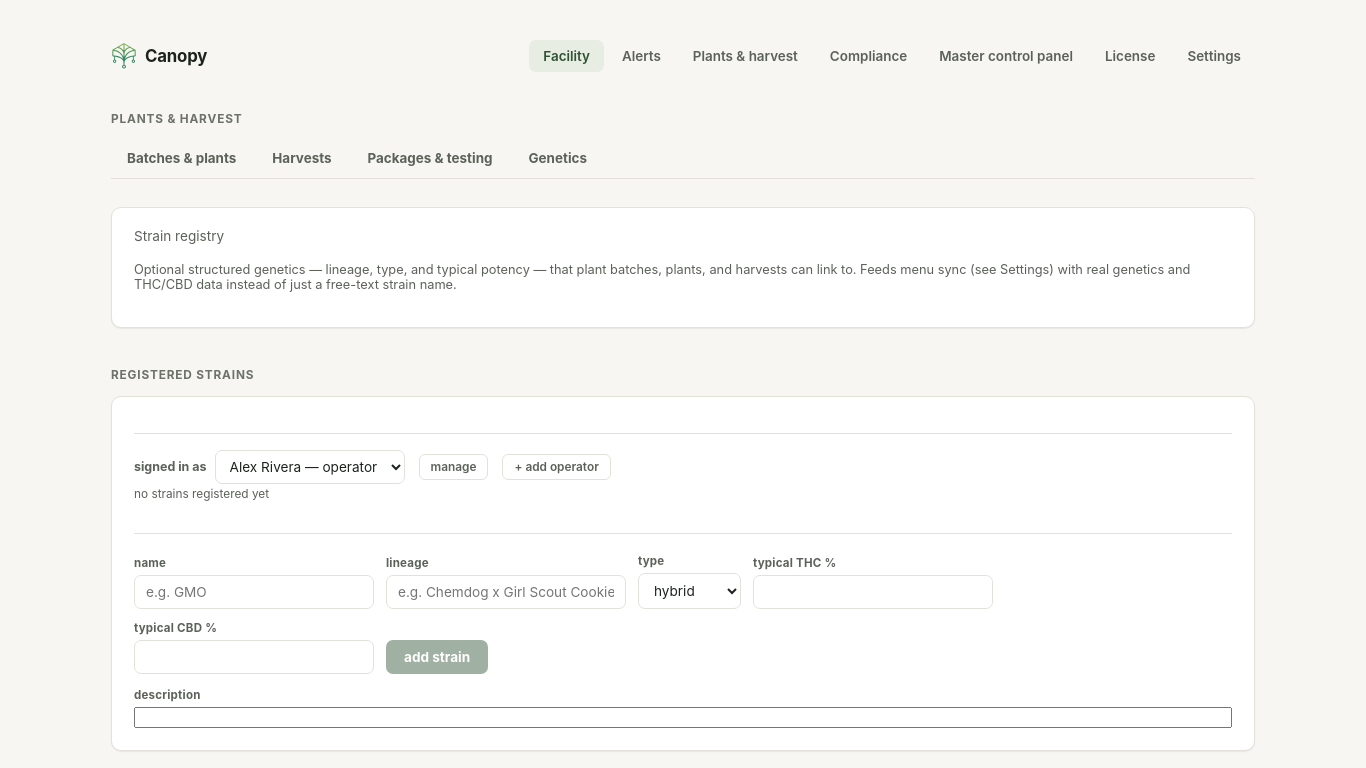
Genetics › creates a new strain and refreshes the list
Expected: the text "no strains registered yet" is shown, [134,487,269,501]
Type "Jelly Breath" into the field with placeholder "e.g. GMO" at coordinates (254, 592), box [134,575,374,609]
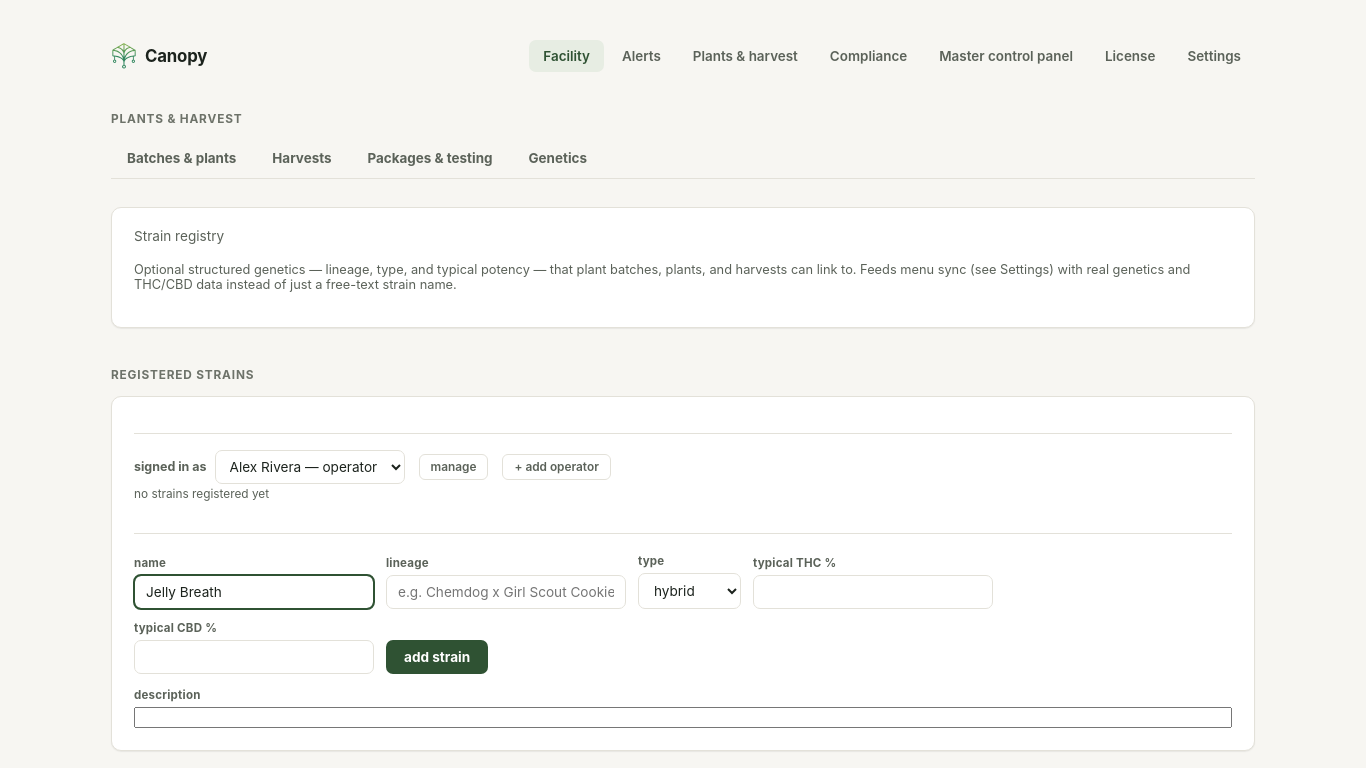
Click the button "add strain" at coordinates (437, 657), box [386,640,488,674]
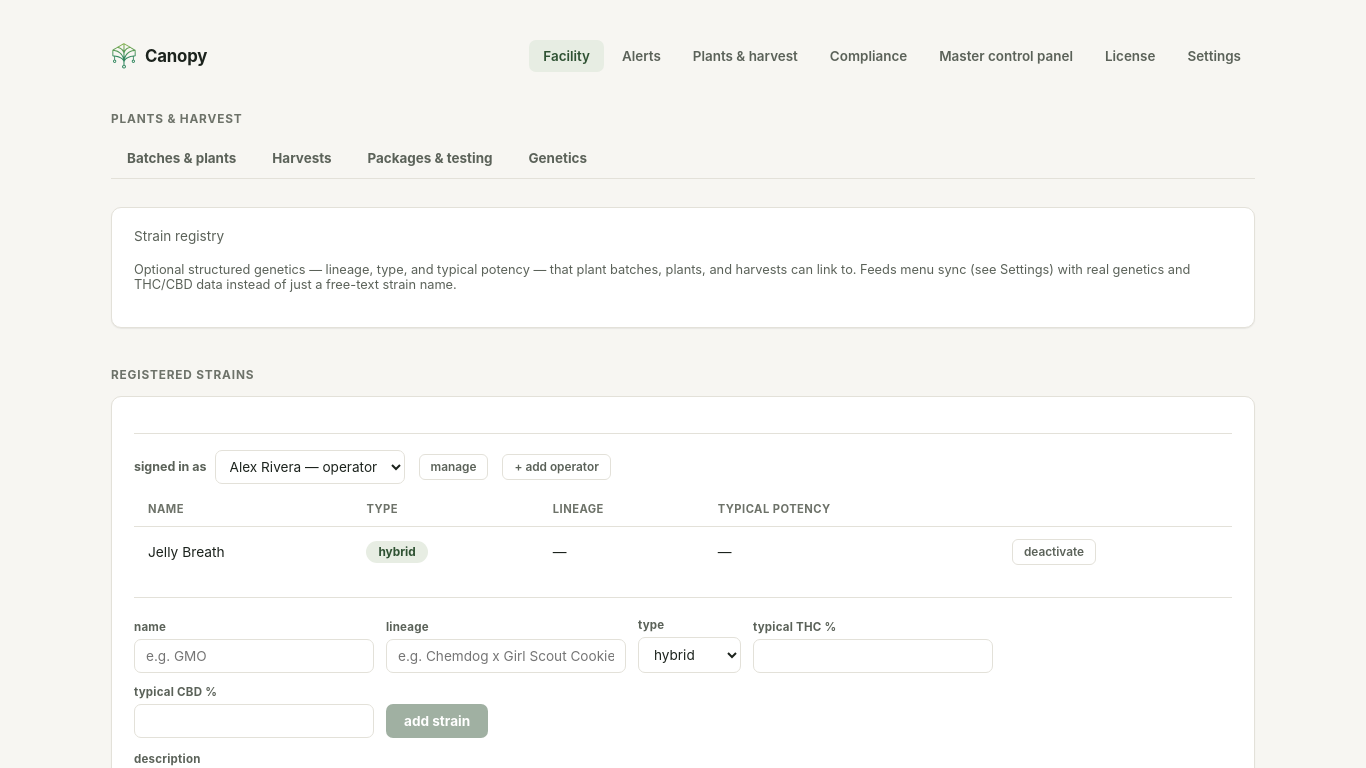
Expected: the text "Jelly Breath" is shown, [134,526,352,577]
